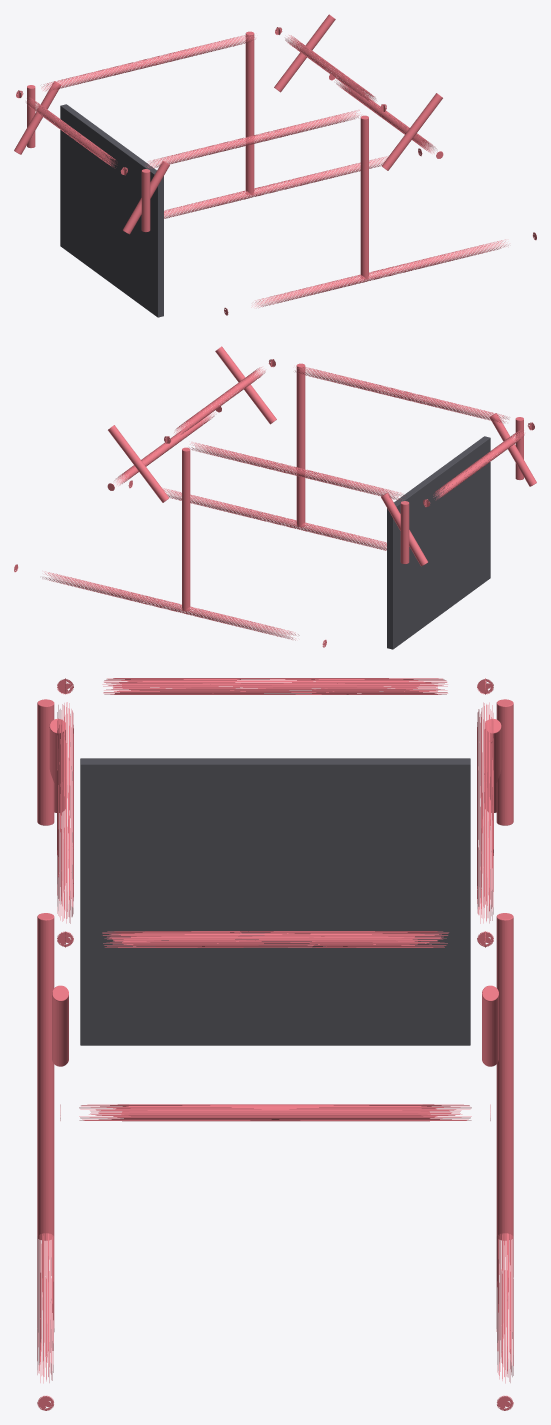
The model's file is body-framework.glb.
The picture shows the model from 3 angles, top to bottom: view 1: azimuth 30°, elevation 25°; view 2: azimuth 150°, elevation 25°; view 3: azimuth 270°, elevation 25°; orthographic projection. The views are drawn at different scales.
Visible parts, largest first — view 1: Tailgate_Aperture_Frame, Body_Sill_R, Body_Sill_L, Roof_Rail_L, Roof_Rail_R, B_Pillar_L, B_Pillar_R, Roof_Header_Rear, Roof_Header_Front, Cowl_Bar_Front, A_Pillar_R, A_Pillar_L (+4 smaller); view 2: Tailgate_Aperture_Frame, Body_Sill_L, Body_Sill_R, Roof_Rail_R, Roof_Rail_L, B_Pillar_R, B_Pillar_L, Roof_Header_Rear, Roof_Header_Front, Cowl_Bar_Front, A_Pillar_L, A_Pillar_R (+4 smaller); view 3: Tailgate_Aperture_Frame, Cowl_Bar_Front, Roof_Header_Rear, Roof_Header_Front, B_Pillar_L, B_Pillar_R, Roof_Rail_R, Roof_Rail_L, Body_Sill_L, Body_Sill_R, D_Pillar_L, D_Pillar_R (+4 smaller).
Part boxes in pixels (x1,y1,x2,y2): Tailgate_Aperture_Frame: [60, 104, 163, 317]; Body_Sill_R: [224, 232, 536, 315]; Body_Sill_L: [164, 148, 422, 218]; Roof_Rail_L: [17, 27, 280, 97]; Roof_Rail_R: [123, 104, 385, 175]; B_Pillar_L: [245, 31, 254, 195]; B_Pillar_R: [360, 115, 368, 279]; Roof_Header_Rear: [16, 90, 127, 174]; Roof_Header_Front: [275, 27, 386, 111]; Cowl_Bar_Front: [329, 73, 443, 158]; A_Pillar_R: [382, 93, 442, 170]; A_Pillar_L: [274, 14, 335, 92]; Tailgate_Aperture_Frame: [387, 436, 490, 649]; Body_Sill_L: [14, 564, 326, 647]; Body_Sill_R: [128, 480, 386, 550]; Roof_Rail_R: [270, 359, 533, 430]; Roof_Rail_L: [165, 436, 428, 507]; B_Pillar_R: [296, 363, 305, 527]; B_Pillar_L: [182, 447, 190, 611]; Roof_Header_Rear: [423, 422, 534, 506]; Roof_Header_Front: [164, 359, 275, 443]; Cowl_Bar_Front: [107, 406, 221, 490]; A_Pillar_L: [108, 425, 168, 502]; A_Pillar_R: [215, 346, 276, 424]; Tailgate_Aperture_Frame: [80, 758, 470, 1045]; Cowl_Bar_Front: [60, 1104, 490, 1121]; Roof_Header_Rear: [65, 678, 485, 694]; Roof_Header_Front: [65, 931, 485, 947]; B_Pillar_L: [496, 913, 513, 1240]; B_Pillar_R: [37, 913, 54, 1240]; Roof_Rail_R: [57, 679, 73, 946]; Roof_Rail_L: [477, 679, 493, 946]; Body_Sill_L: [496, 1233, 513, 1410]; Body_Sill_R: [37, 1233, 54, 1410]; D_Pillar_L: [496, 699, 513, 825]; D_Pillar_R: [37, 699, 54, 825].
Bounding box in the file's own units: 3.87 × 1.52 × 1.95.
